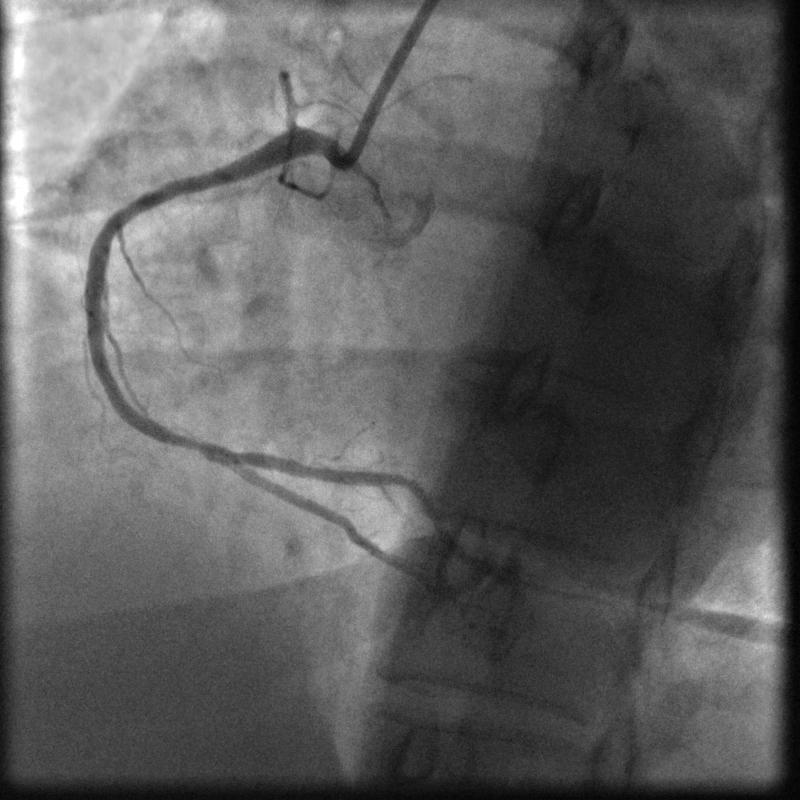Stenosis: (174, 424, 221, 470)
